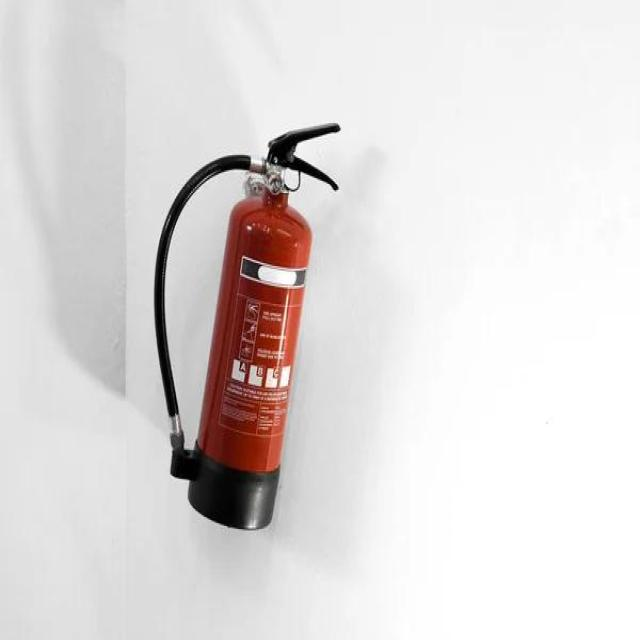fire_extinguisher: (149, 115, 344, 531)
